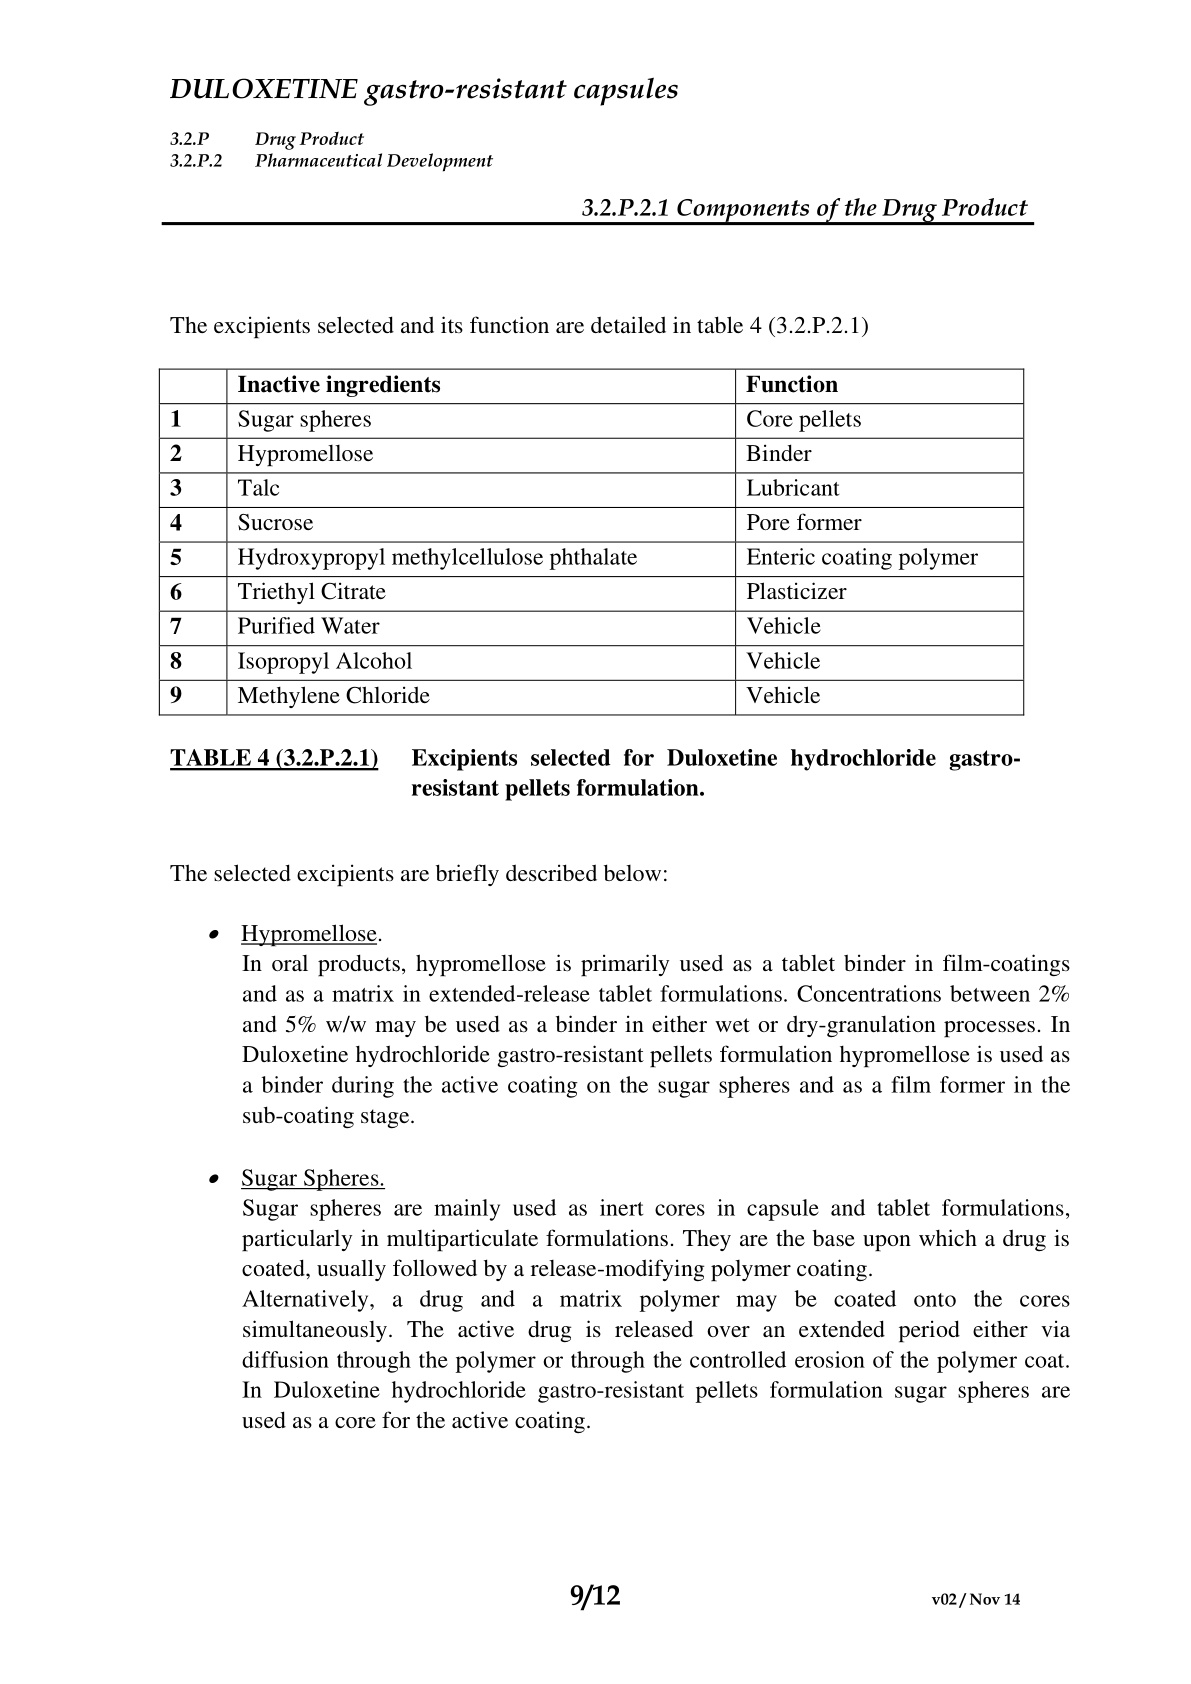full_lined: (159, 368, 1025, 716)
